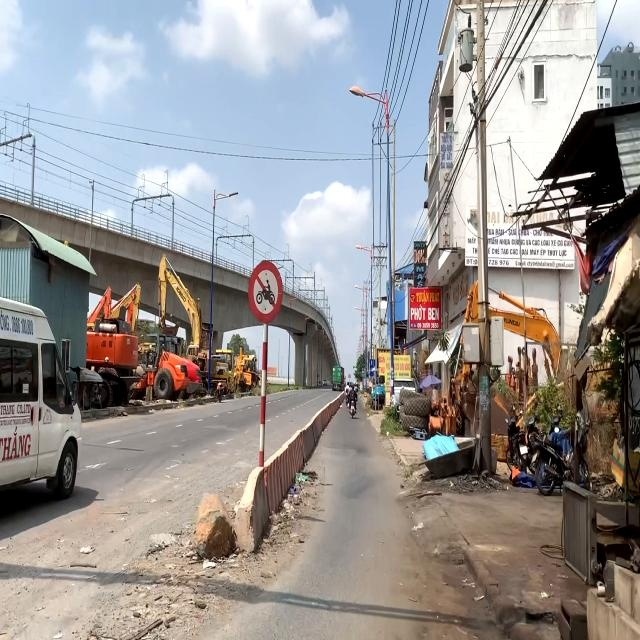bien_cam: (248, 260, 283, 322)
